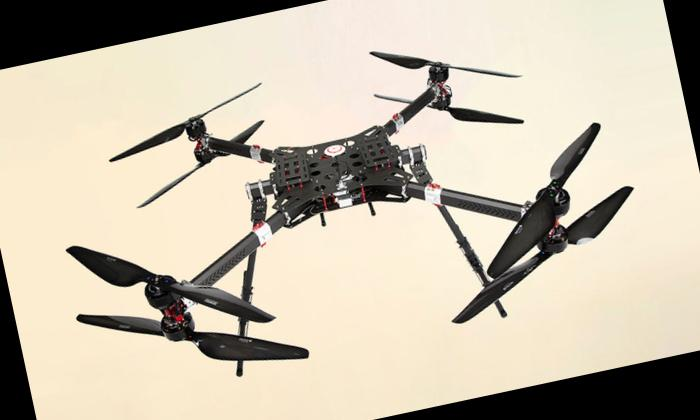drone: (3, 0, 671, 418)
